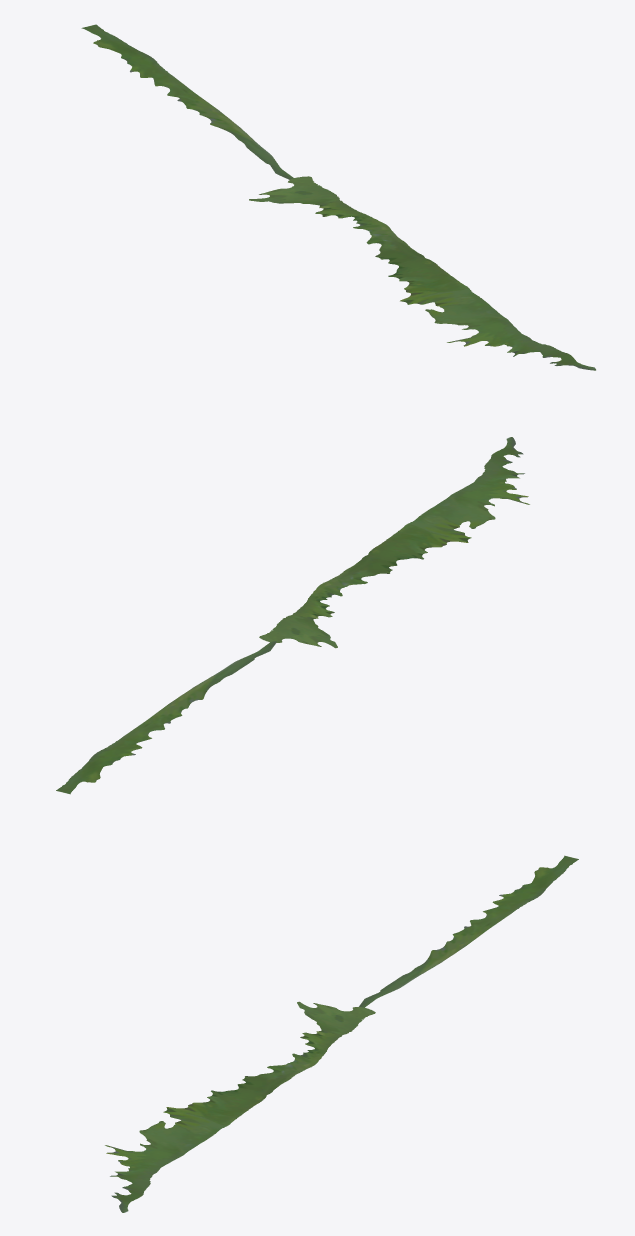
File: dianmiancao02.FBX
3 views of the same model, one above another, from view 1: azimuth 30°, elevation 25°; view 2: azimuth 150°, elevation 25°; view 3: azimuth 330°, elevation 25° (orthographic).
Visible parts, largest first — view 1: dianmiancao02; view 2: dianmiancao02; view 3: dianmiancao02.
Boxes of the visible parts, x1,y1,x2,y2 form: dianmiancao02: (81,24,595,370); dianmiancao02: (56,437,529,794); dianmiancao02: (105,855,578,1212).
Size of the model in its own units: 53.64 by 5.82e-05 by 357.
